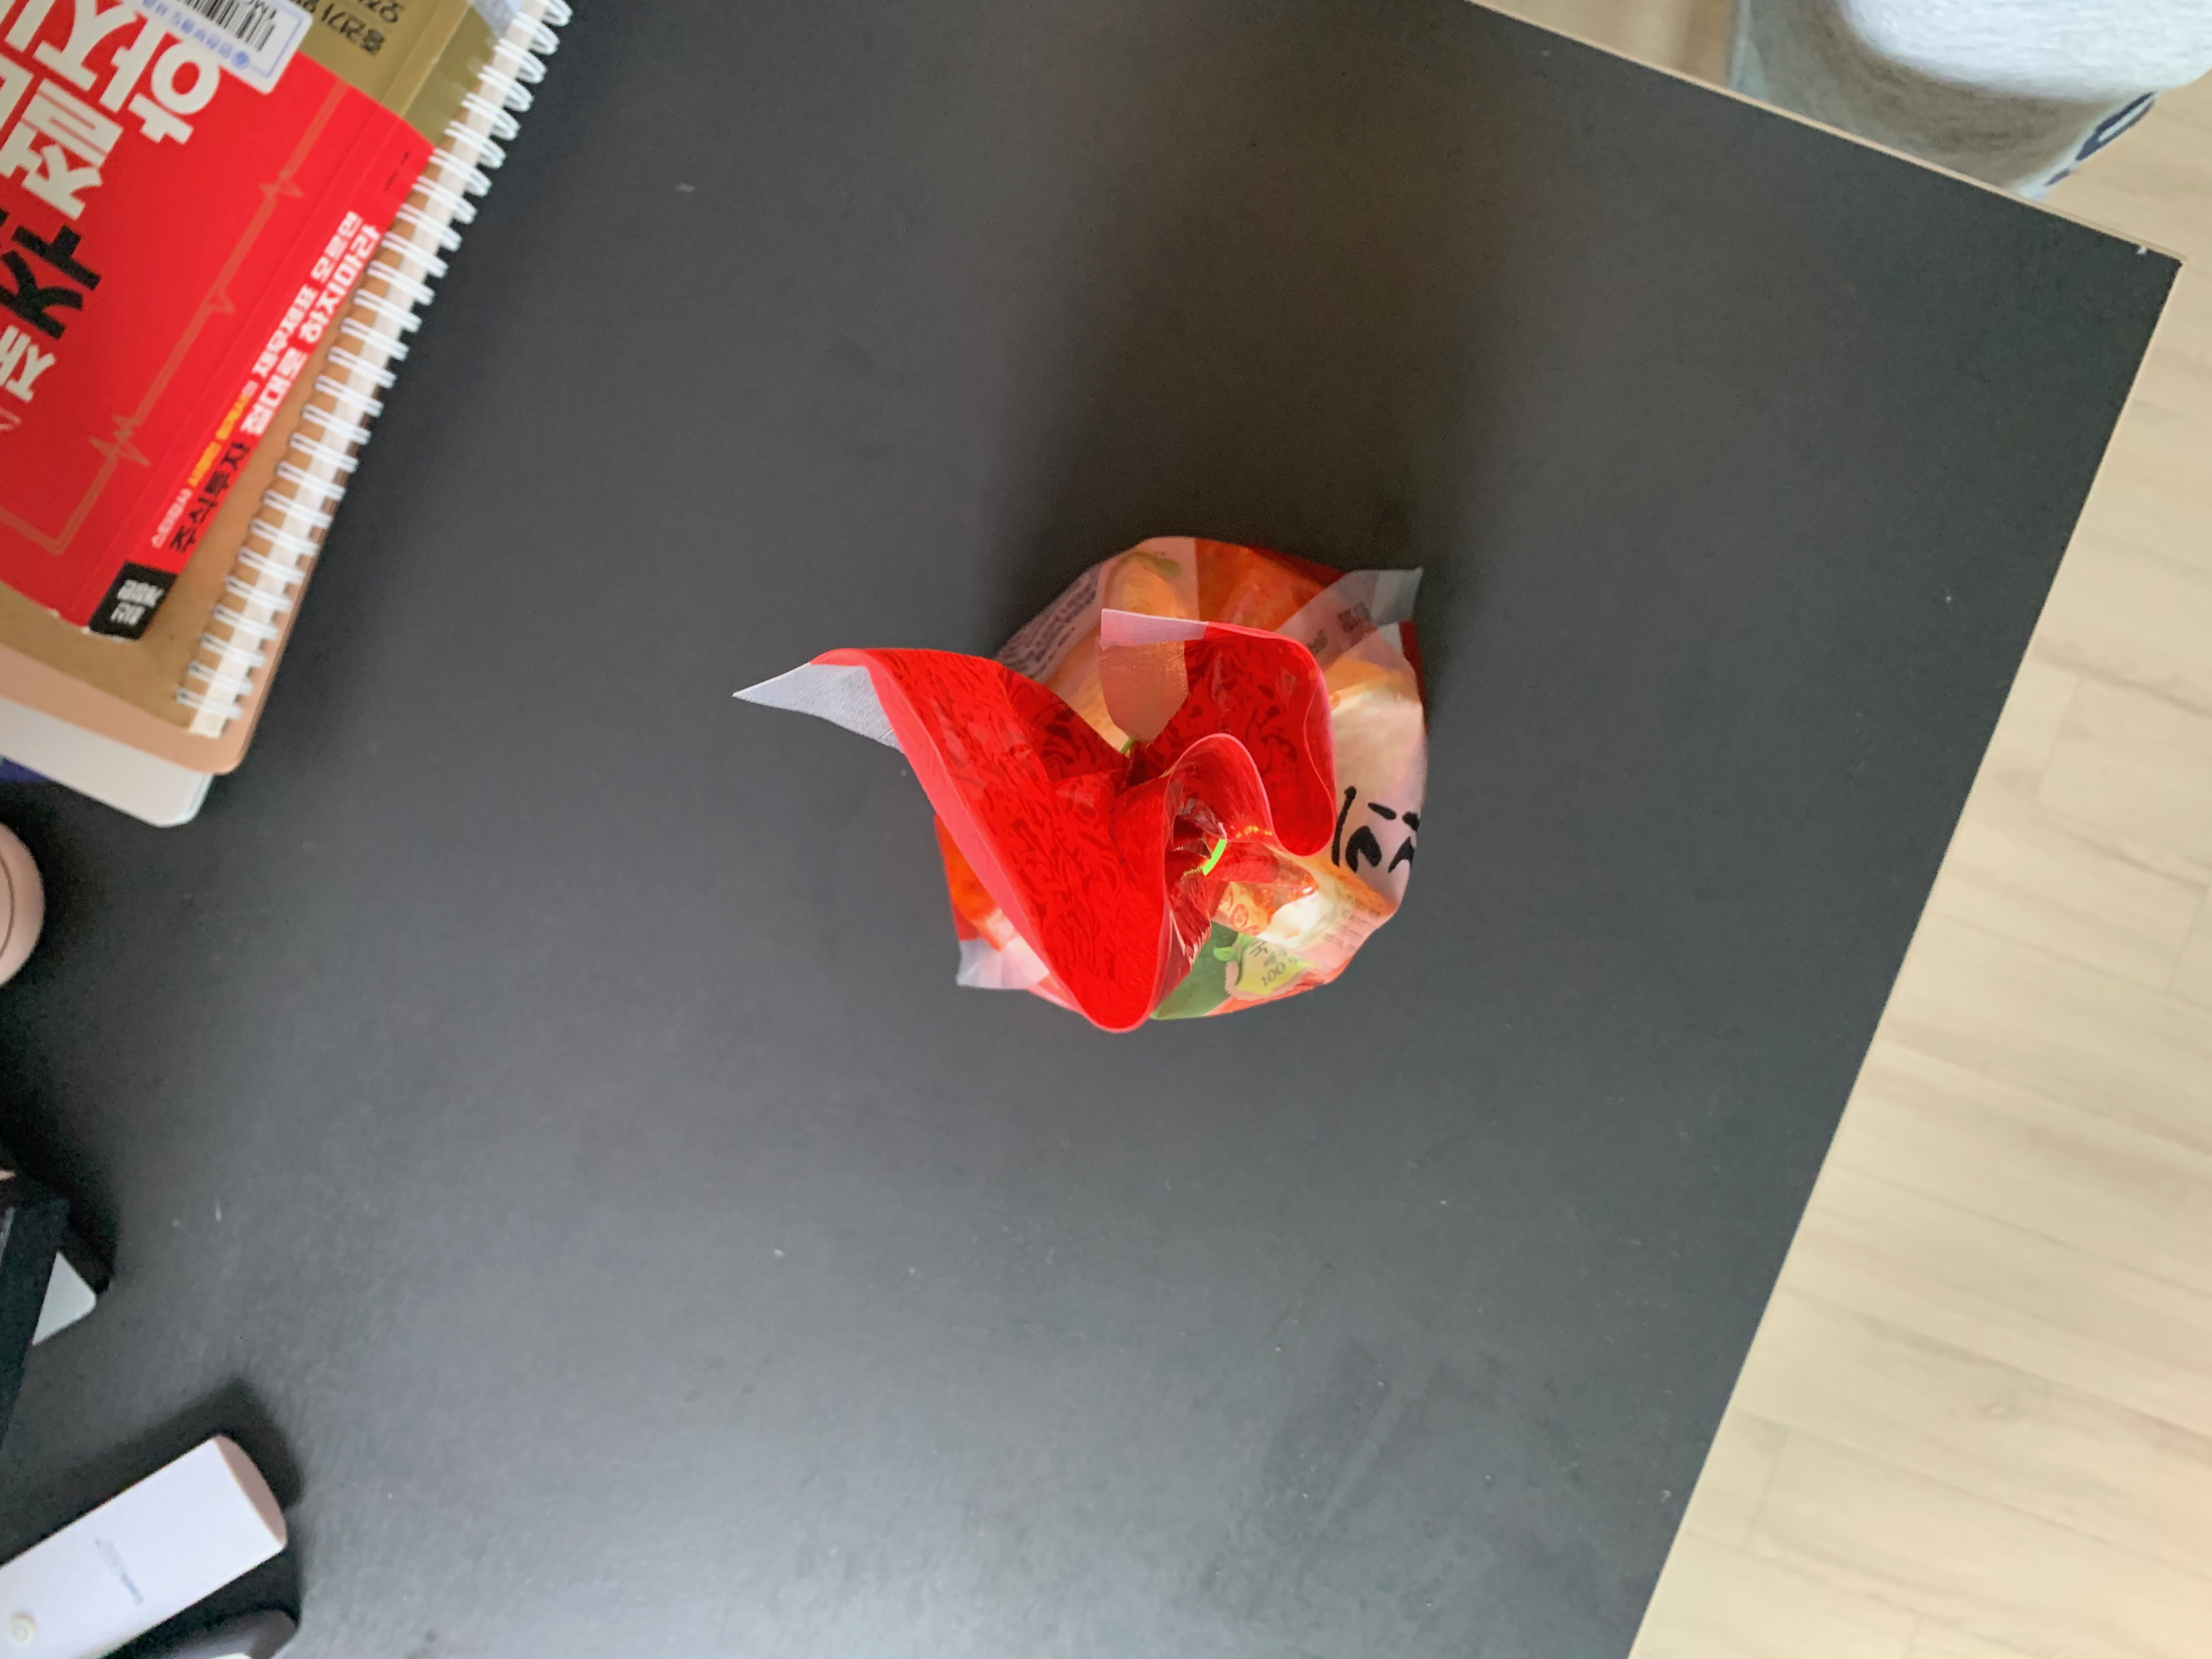kimchi: (860, 533, 1435, 1032)
